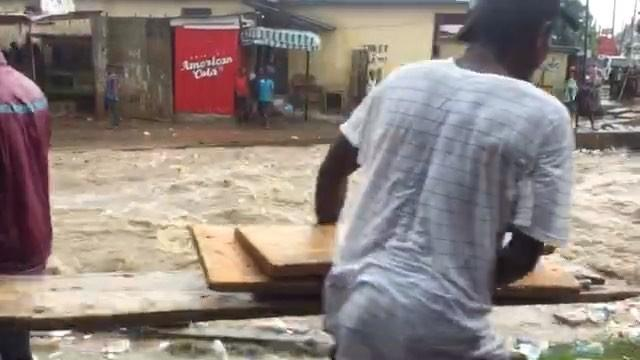victim: (312, 18, 580, 358), (98, 61, 126, 133), (254, 66, 272, 132), (234, 65, 252, 130), (564, 63, 578, 126)
